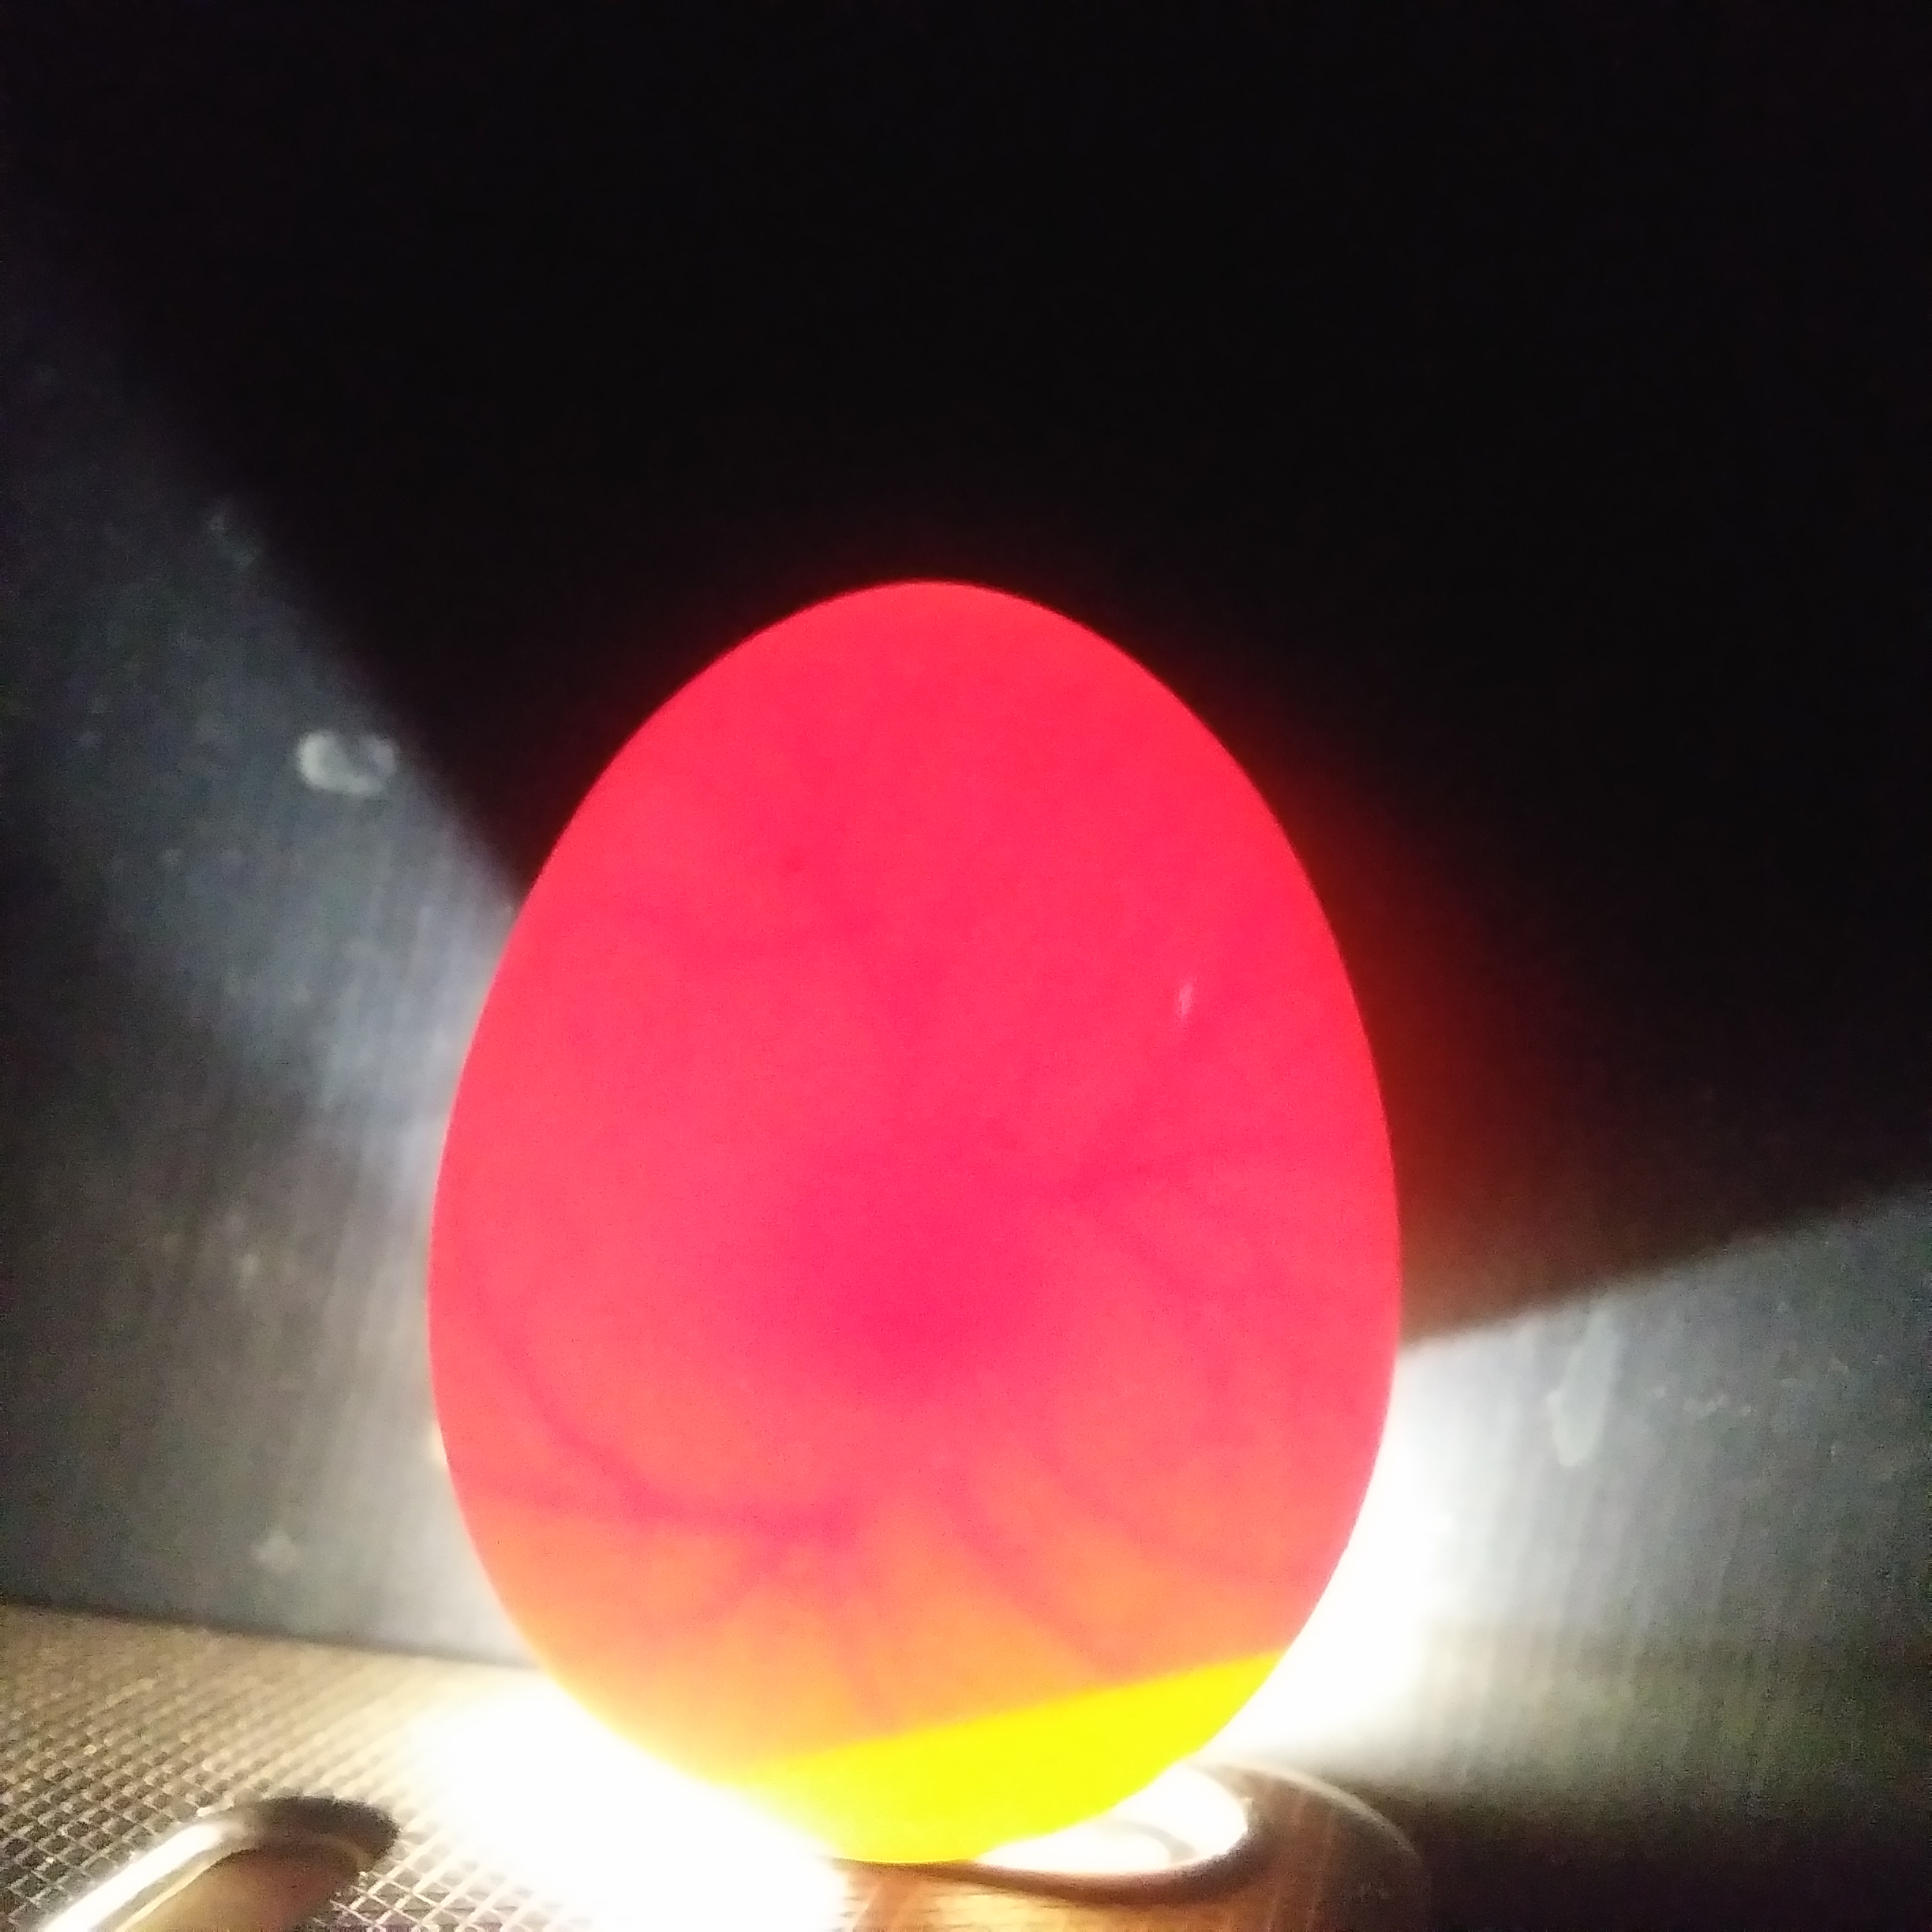bloodcell: (547, 1440, 1136, 1667), (1099, 1115, 1366, 1405)
